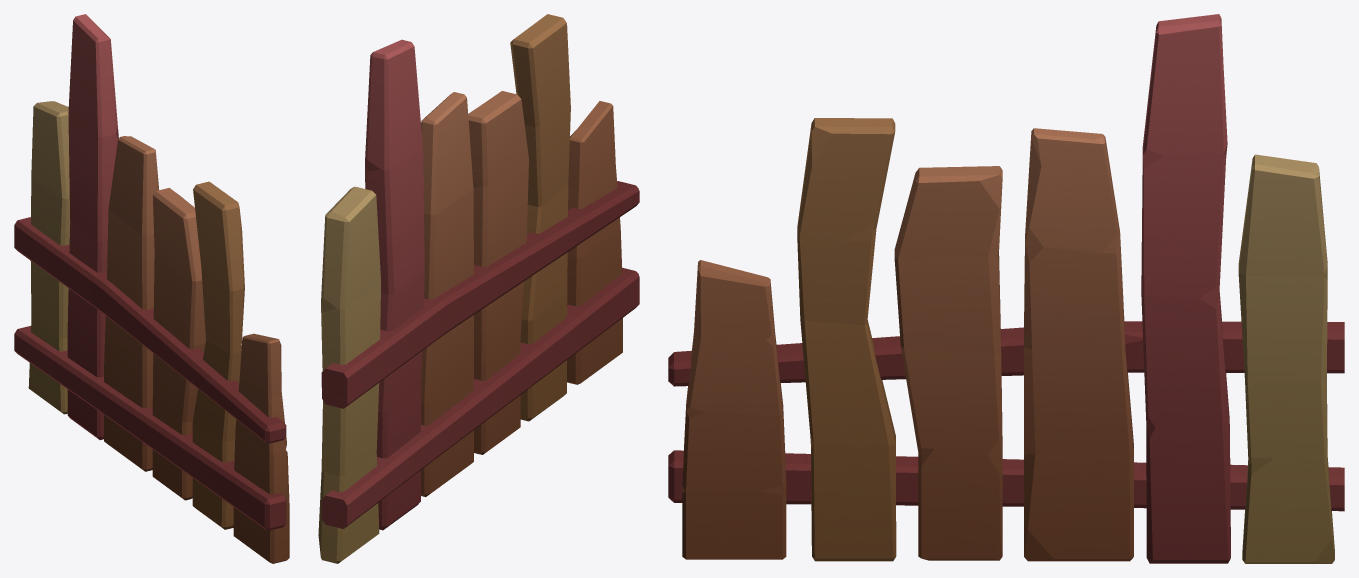
The model's file is pagar6.fbx.
3 renders of one model, left to right at view 1: azimuth 30°, elevation 25°; view 2: azimuth 150°, elevation 25°; view 3: azimuth 270°, elevation 25°, orthographic. The views are drawn at different scales.
Visible parts, largest first — view 1: Pagar fix.006; view 2: Pagar fix.006; view 3: Pagar fix.006.
Boxes of the visible parts, left/top/right/bottom form: Pagar fix.006: left=14, top=14, right=289, bottom=563; Pagar fix.006: left=318, top=14, right=639, bottom=563; Pagar fix.006: left=668, top=14, right=1344, bottom=563.
Bounding box in the file's own units: 15.26 × 188 × 212.
1 material, 1 textured.
